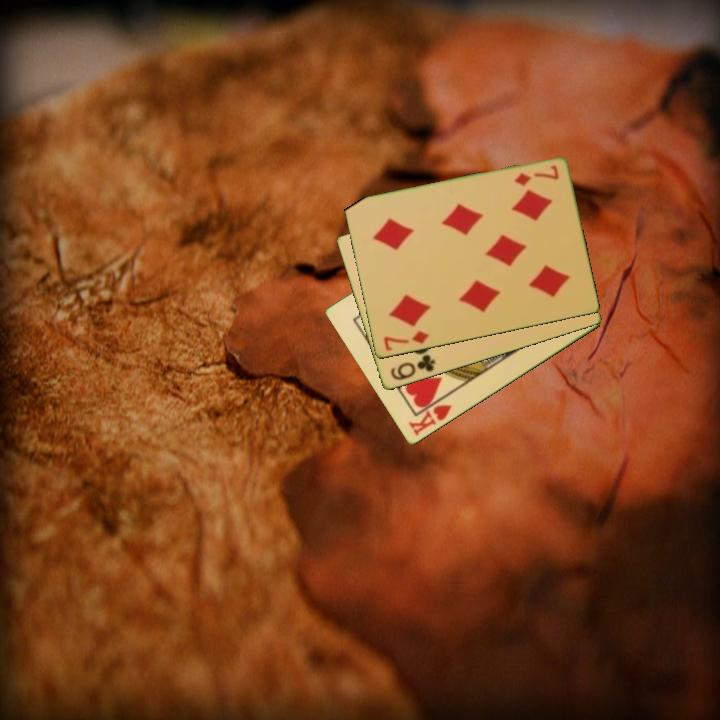6c: (387, 351, 438, 383)
7d: (380, 327, 432, 354), (510, 162, 561, 189)
Kh: (405, 392, 454, 440)
